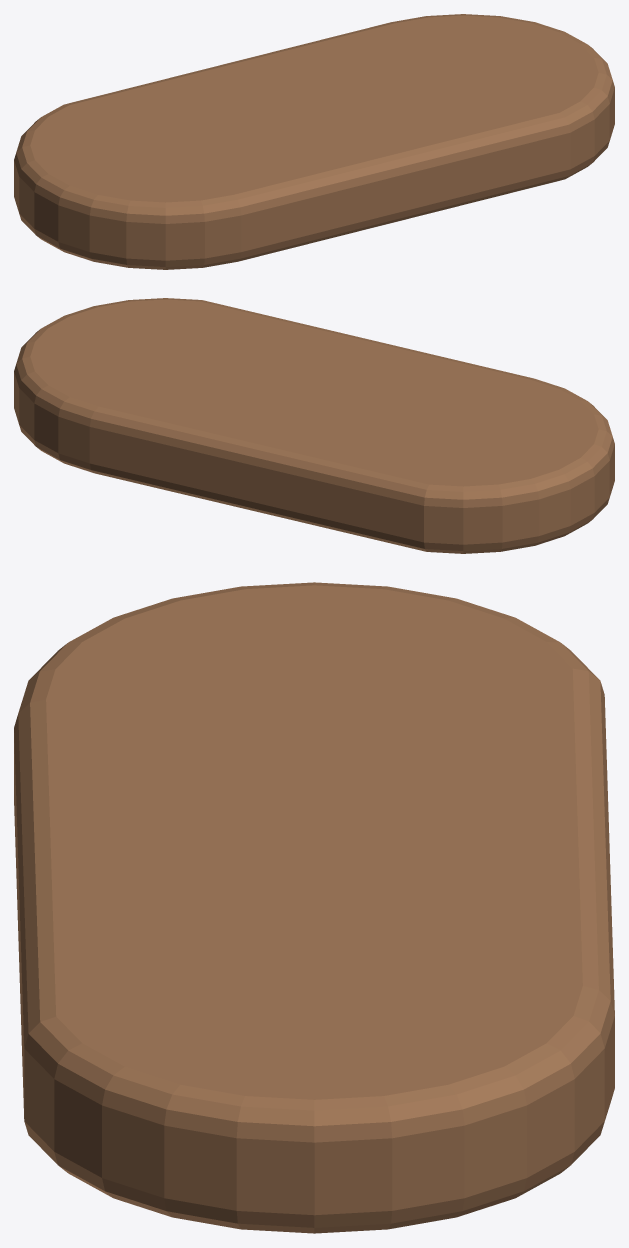
The model's file is SM_UI_ToggleTrack.fbx.
The picture shows the model from 3 angles, top to bottom: view 1: azimuth 30°, elevation 25°; view 2: azimuth 150°, elevation 25°; view 3: azimuth 270°, elevation 25°; orthographic projection. The views are drawn at different scales.
Parts seen in each view (by area): view 1: SM_UI_ToggleTrack; view 2: SM_UI_ToggleTrack; view 3: SM_UI_ToggleTrack.
Boxes of the visible parts, bbox=[...] form: SM_UI_ToggleTrack: bbox=[14, 14, 614, 269]; SM_UI_ToggleTrack: bbox=[14, 298, 614, 553]; SM_UI_ToggleTrack: bbox=[14, 582, 614, 1233].
Bounding box in the file's own units: 1.6 × 0.18 × 0.75.
